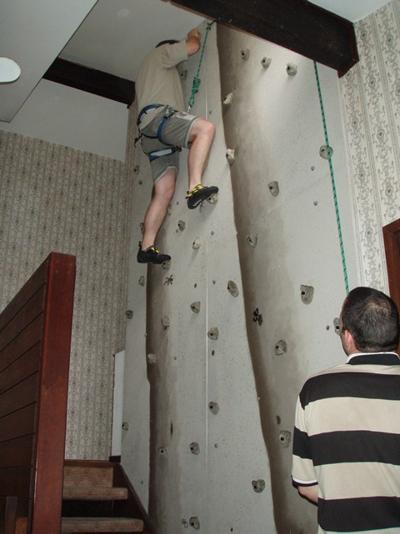person: (133, 25, 218, 265)
